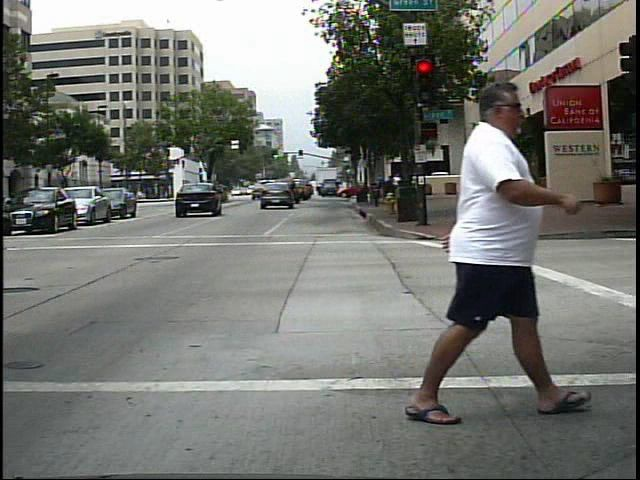person: (395, 72, 572, 428)
